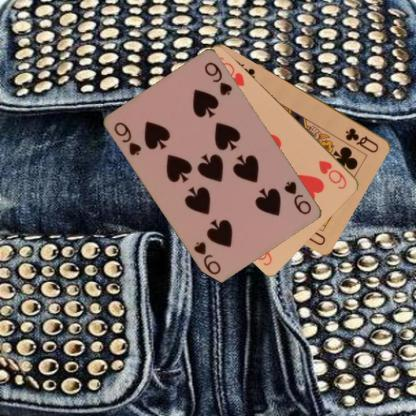6h: (316, 158, 349, 190)
9s: (280, 179, 313, 216), (112, 119, 144, 157)
Qc: (343, 124, 380, 154)
